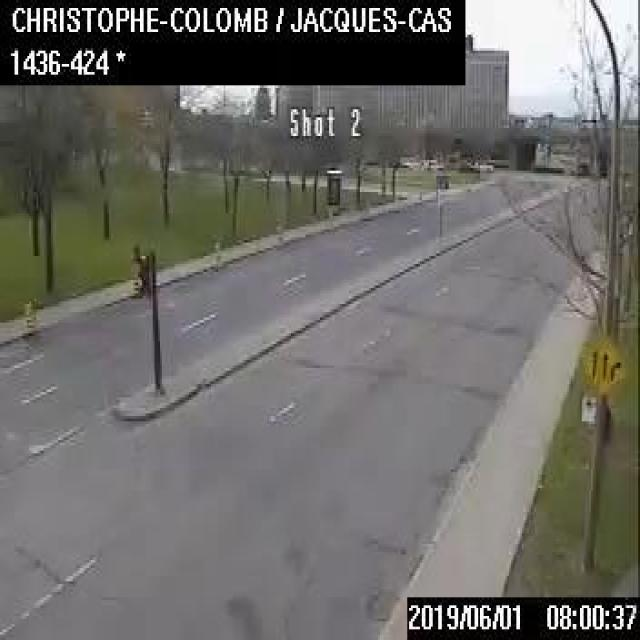construction: (23, 301, 34, 336)
vehicle: (468, 156, 493, 168), (420, 157, 442, 167)
